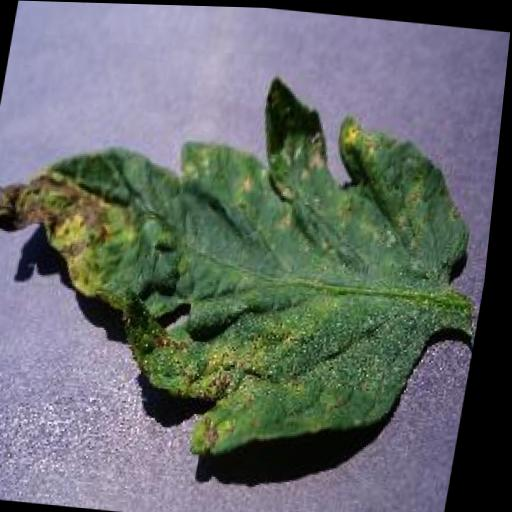Septoria: (0, 49, 498, 480)
